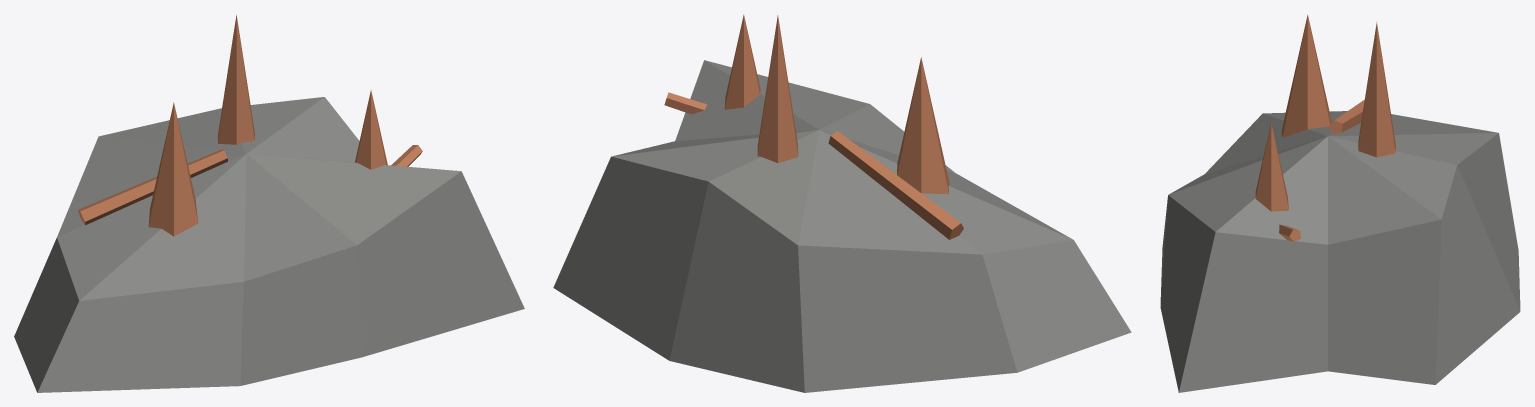
File: ore_iron.glb
3 renders of one model, left to right at view 1: azimuth 30°, elevation 25°; view 2: azimuth 150°, elevation 25°; view 3: azimuth 270°, elevation 25°, orthographic. The views are drawn at different scales.
Visible parts, largest first — view 1: ore_iron_rock_base, ore_iron_ore_crystal_1, ore_iron_ore_crystal_2, ore_iron_ore_vein_1, ore_iron_ore_crystal_3; view 2: ore_iron_rock_base, ore_iron_ore_crystal_1, ore_iron_ore_crystal_2, ore_iron_ore_vein_1, ore_iron_ore_crystal_3, ore_iron_ore_vein_2; view 3: ore_iron_rock_base, ore_iron_ore_crystal_1, ore_iron_ore_crystal_2, ore_iron_ore_crystal_3, ore_iron_ore_vein_1.
Part boxes in pixels (bbox=[...]): ore_iron_rock_base: bbox=[14, 97, 524, 392]; ore_iron_ore_crystal_1: bbox=[148, 102, 198, 236]; ore_iron_ore_crystal_2: bbox=[217, 15, 254, 144]; ore_iron_ore_vein_1: bbox=[78, 149, 227, 225]; ore_iron_ore_crystal_3: bbox=[355, 90, 387, 169]; ore_iron_rock_base: bbox=[553, 60, 1131, 392]; ore_iron_ore_crystal_1: bbox=[897, 57, 949, 194]; ore_iron_ore_crystal_2: bbox=[757, 15, 798, 162]; ore_iron_ore_vein_1: bbox=[828, 131, 963, 239]; ore_iron_ore_crystal_3: bbox=[724, 14, 760, 109]; ore_iron_ore_vein_2: bbox=[664, 92, 707, 114]; ore_iron_rock_base: bbox=[1160, 111, 1520, 392]; ore_iron_ore_crystal_1: bbox=[1281, 14, 1331, 137]; ore_iron_ore_crystal_2: bbox=[1358, 22, 1395, 157]; ore_iron_ore_crystal_3: bbox=[1255, 122, 1288, 211]; ore_iron_ore_vein_1: bbox=[1329, 100, 1364, 133].
Size of the model in its own units: 1.31 by 0.75 by 0.8862.
